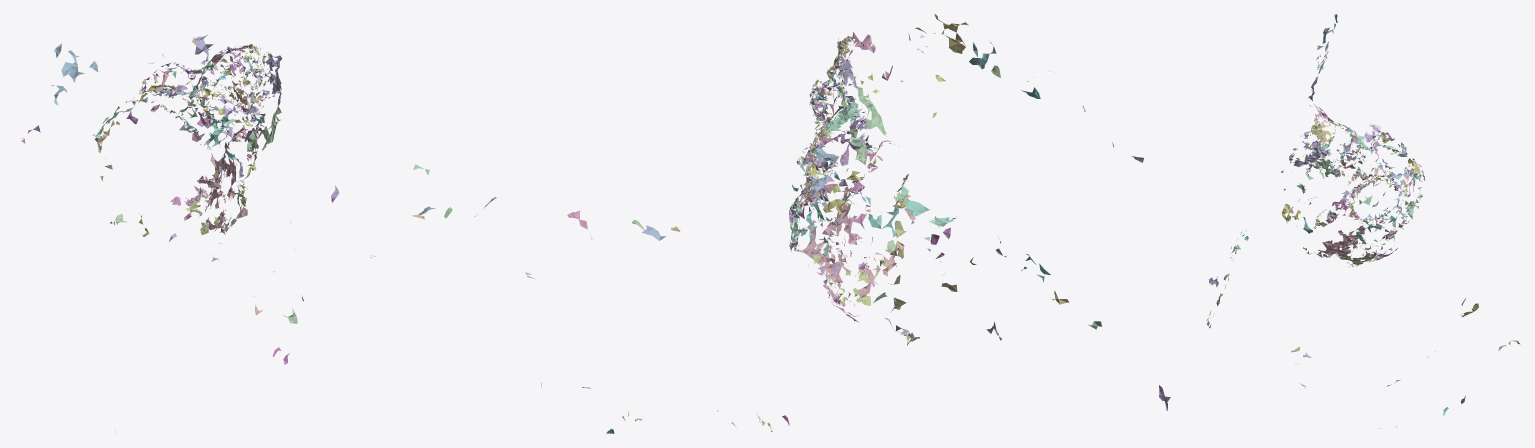
Rendered from scan65_hybrid_asset.glb.
3 views of the same model, side by side, from view 1: azimuth 30°, elevation 25°; view 2: azimuth 150°, elevation 25°; view 3: azimuth 270°, elevation 25° (orthographic). The views are drawn at different scales.
Visible parts, largest first — view 1: certified_patches; view 2: certified_patches; view 3: certified_patches.
Part boxes in pixels (x1,y1,x2,y2): certified_patches: [21, 35, 496, 433]; certified_patches: [525, 14, 1170, 433]; certified_patches: [1199, 14, 1520, 428].
Size of what is drawn, in the model's own units: 2.31 by 1.59 by 1.61.
